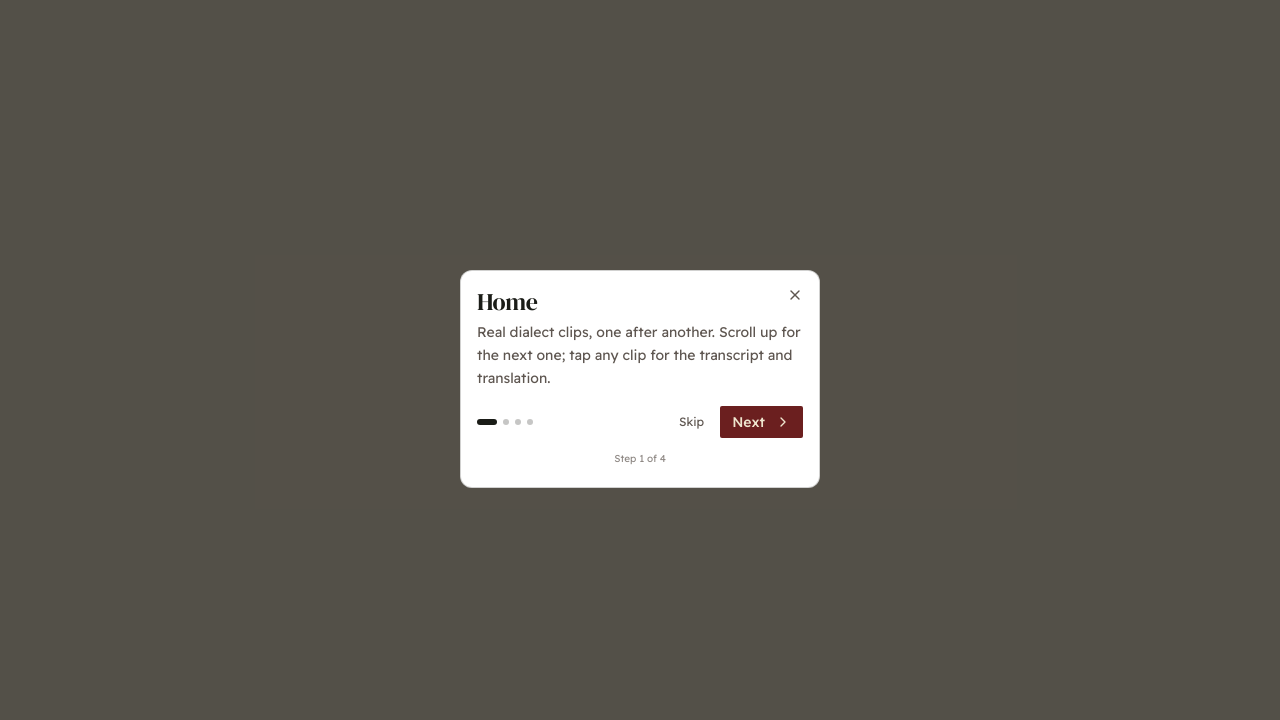
Test: highlighting the target › still walks through every step with nothing to point at
The image size is (1280, 720).
Click the button "Next": {"x": 762, "y": 422} x1=720 y1=406 x2=803 y2=438
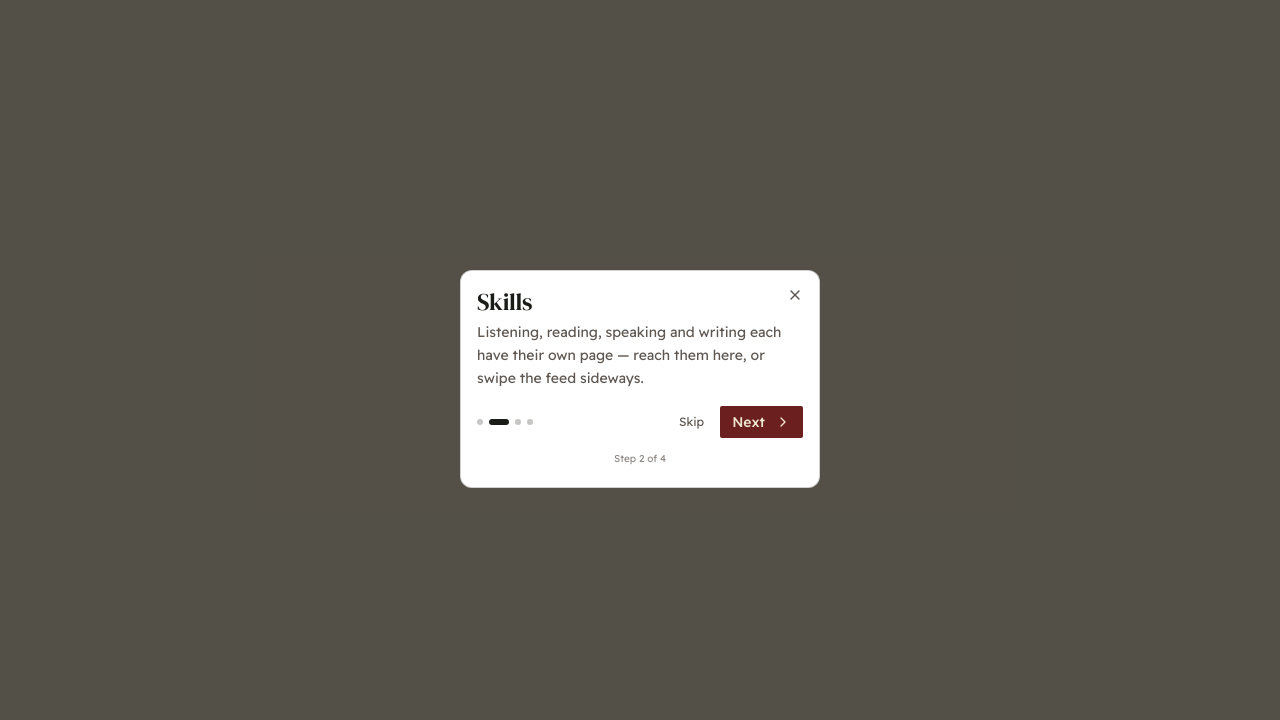
Click the button "Next": {"x": 762, "y": 422} x1=720 y1=406 x2=803 y2=438
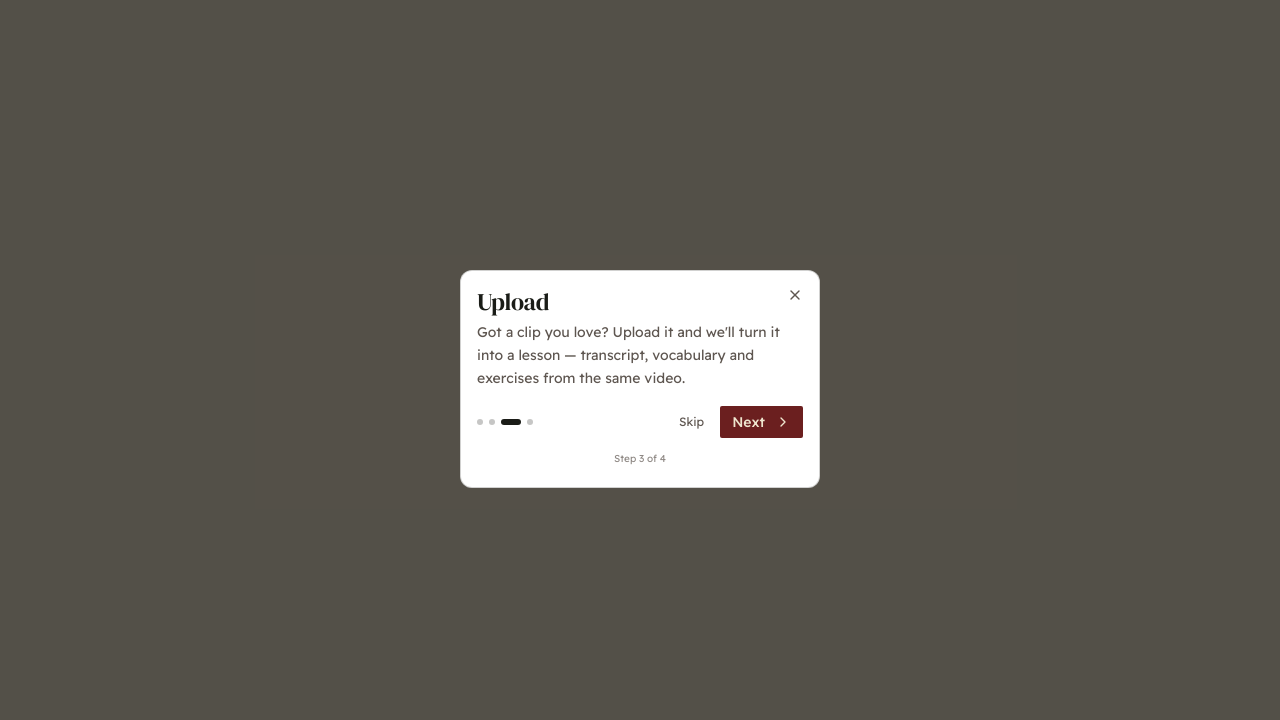
Click the button "Next": {"x": 762, "y": 422} x1=720 y1=406 x2=803 y2=438
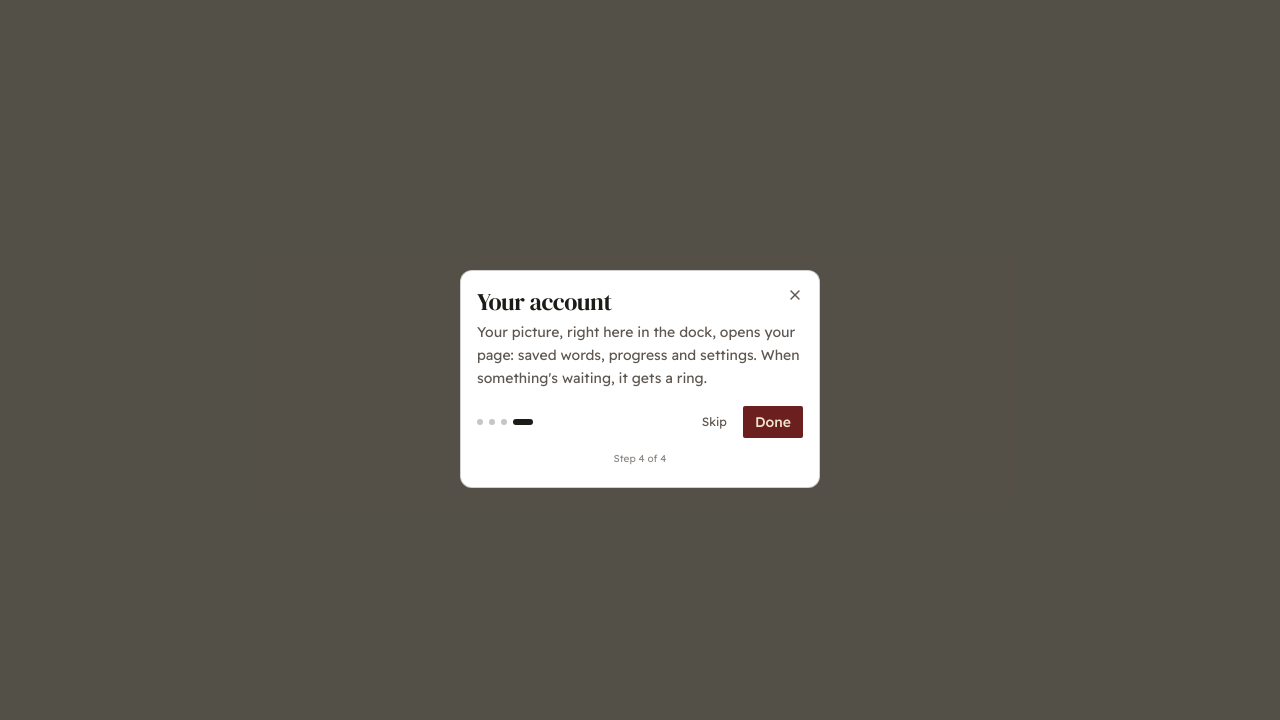
Result: the heading "Your account" is shown at x1=477 y1=287 x2=612 y2=317
